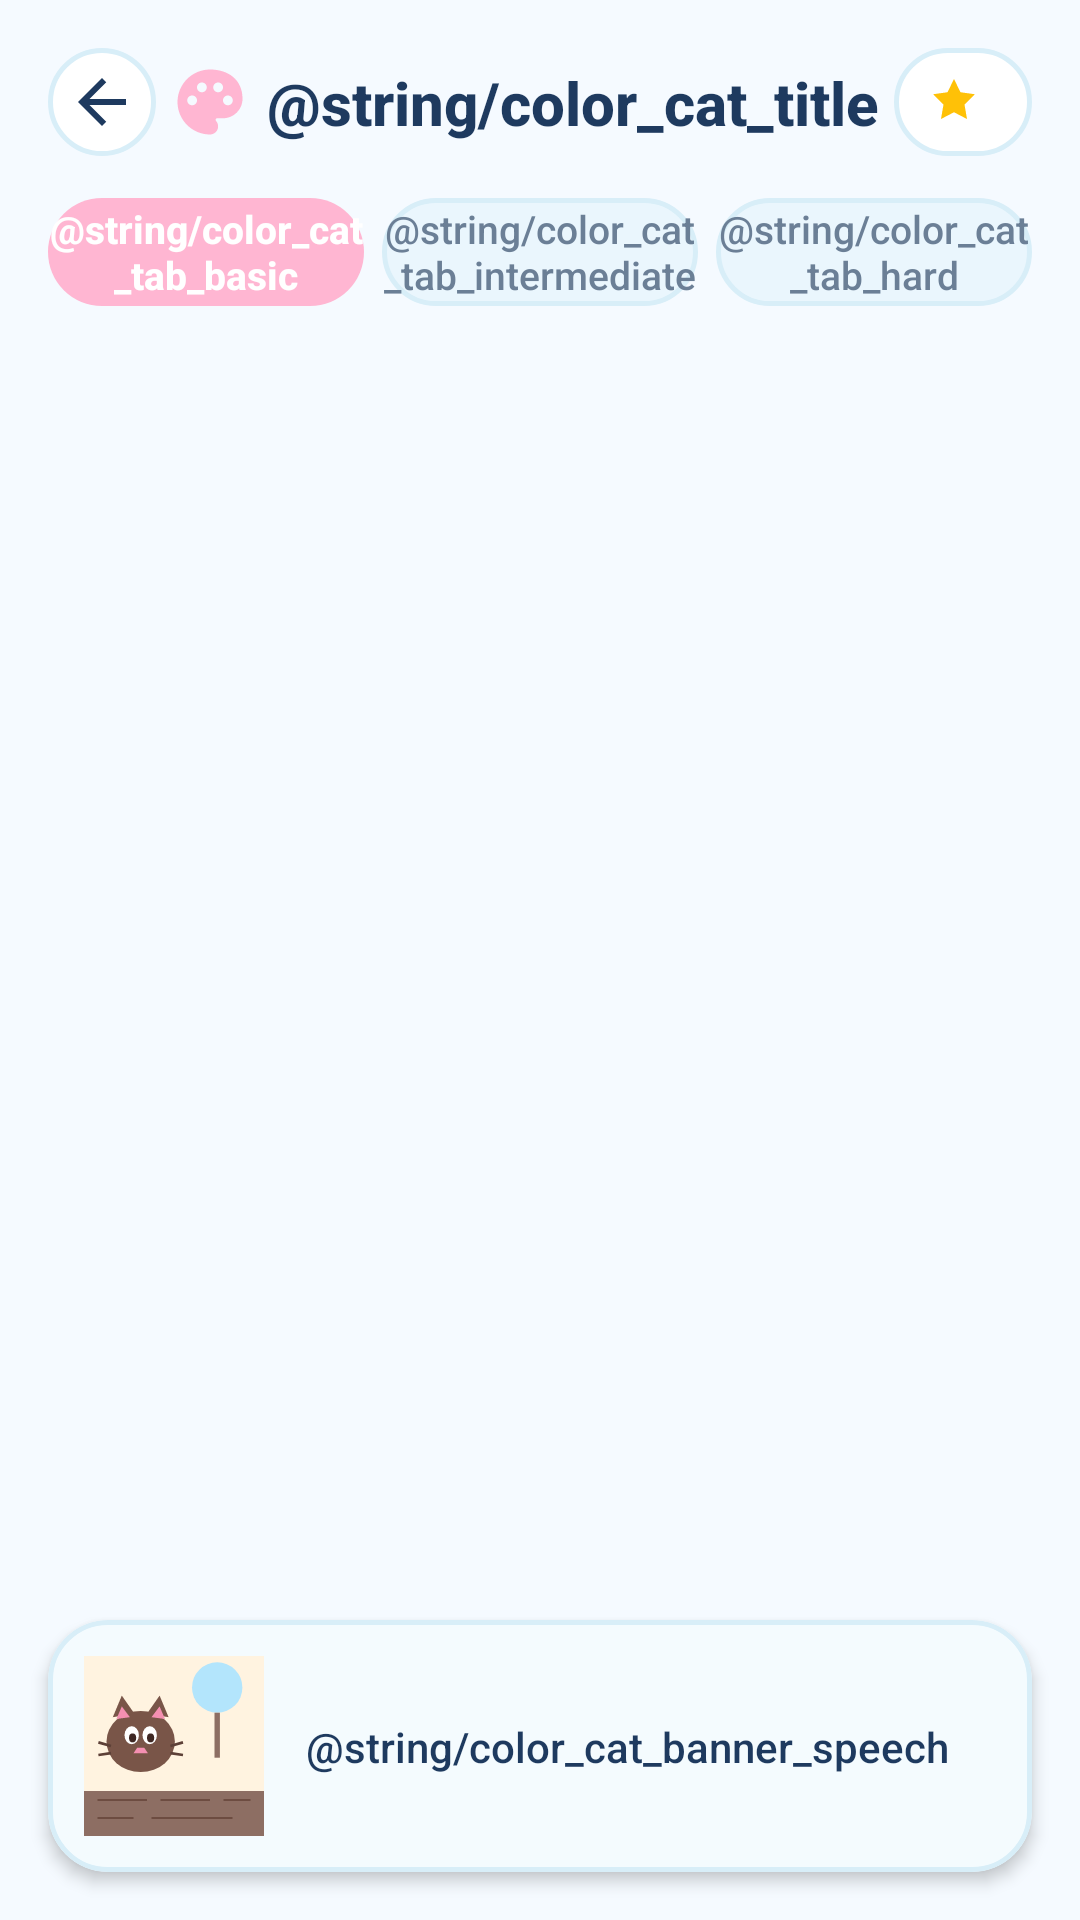

Where to tap for icons on this 1080*1920 app screen, as [x,y]:
Back: [102,102]
puzzle cute cat: [174,1746]
star: [954,99]
